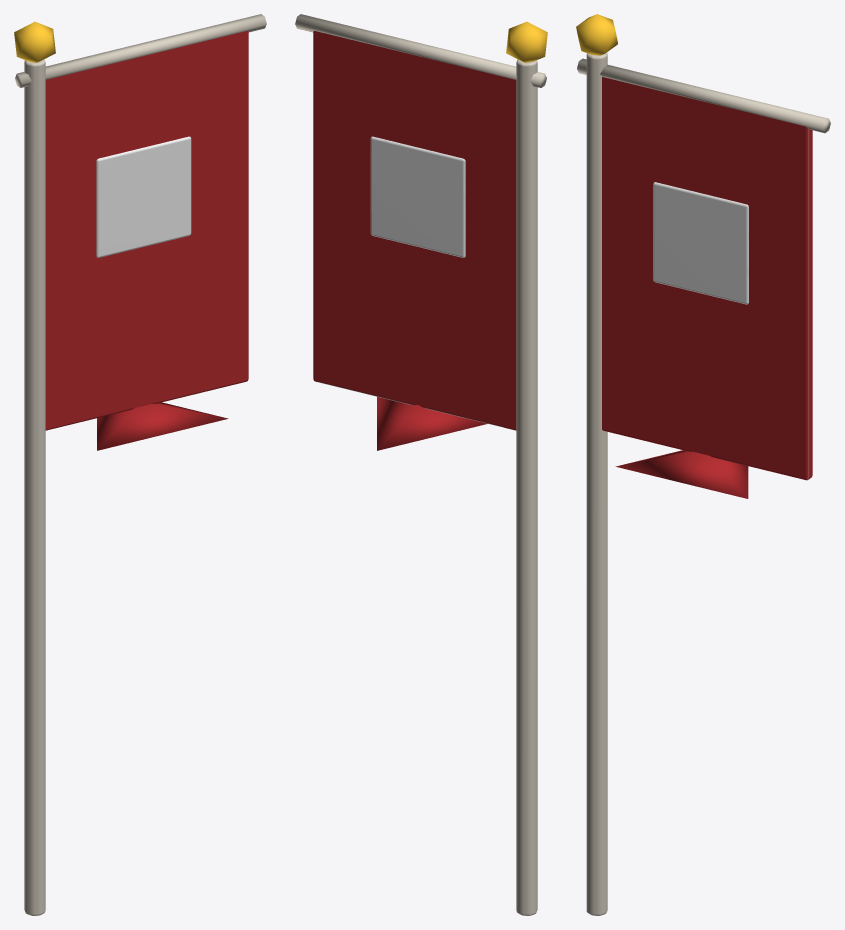
Rendered from banner_red.glb.
The picture shows the model from 3 angles, left to right: view 1: azimuth 30°, elevation 25°; view 2: azimuth 150°, elevation 25°; view 3: azimuth 330°, elevation 25°; orthographic projection.
Visible parts, largest first — view 1: pole; view 2: pole; view 3: pole.
Boxes of the visible parts, bbox=[...] form: pole: bbox=[14, 14, 266, 915]; pole: bbox=[295, 14, 547, 915]; pole: bbox=[576, 14, 830, 915].
Size of the model in its own units: 0.3024 by 1.04 by 0.1404.
Materials: 2 (1 with a texture image).
